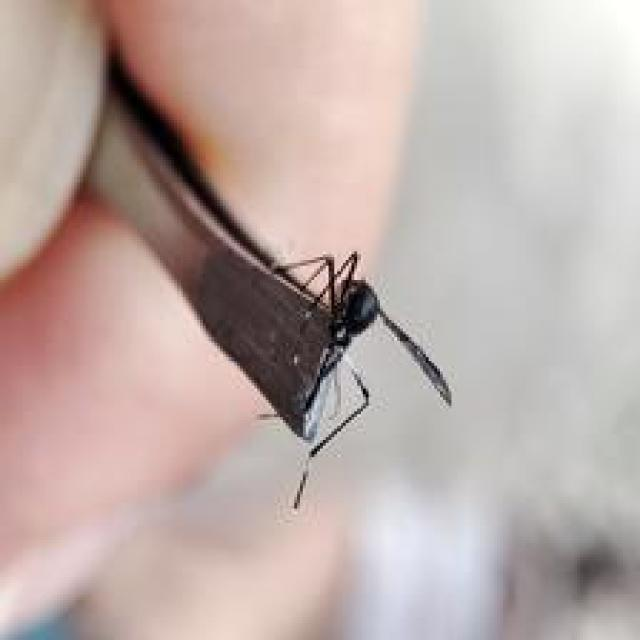Aedes albopictus: (83, 47, 454, 510)
